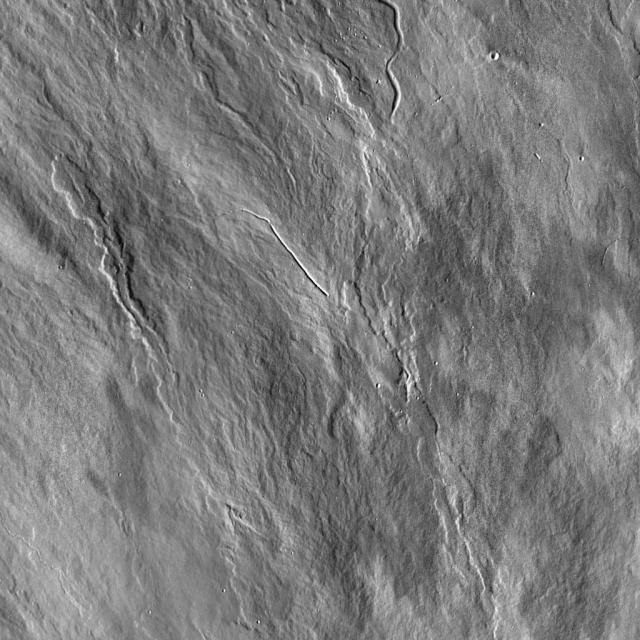crater: (493, 50, 502, 59)
